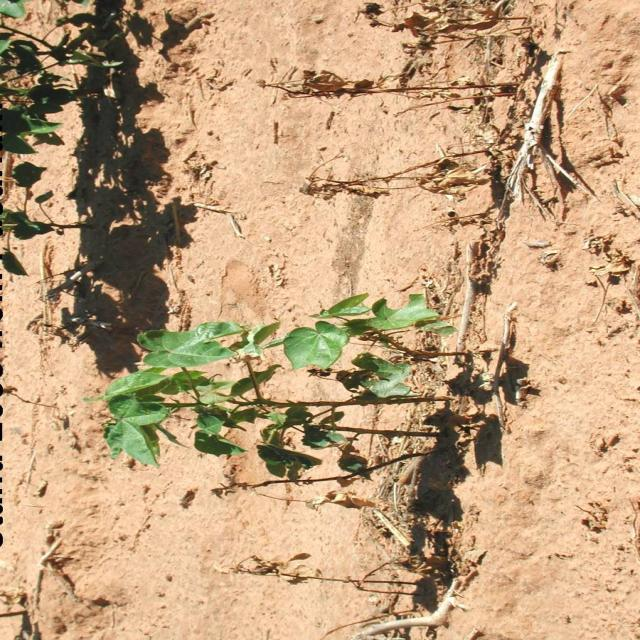Fusarium Wilt: (158, 20, 558, 492)
